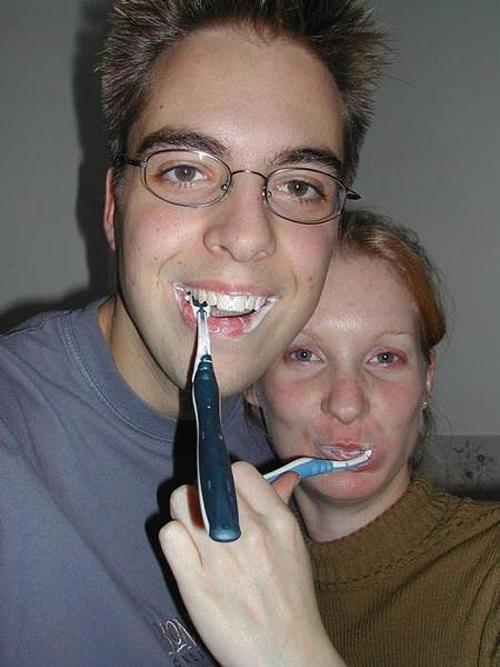person: (4, 2, 390, 667)
